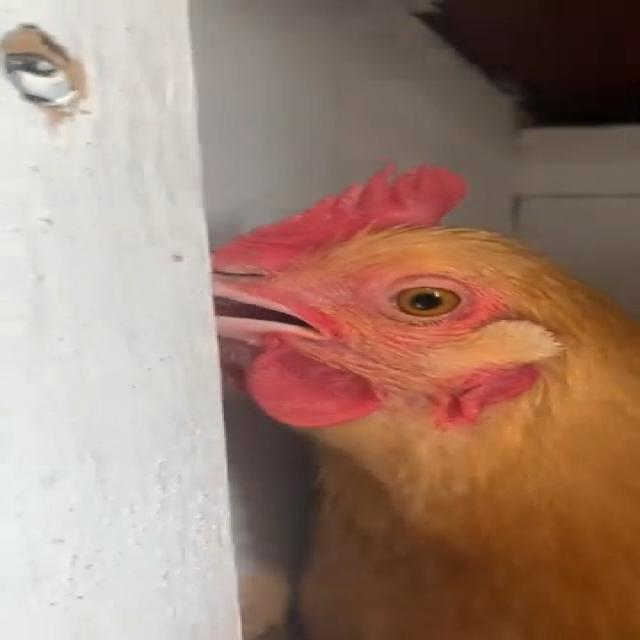Breathing: (210, 161, 638, 638)
